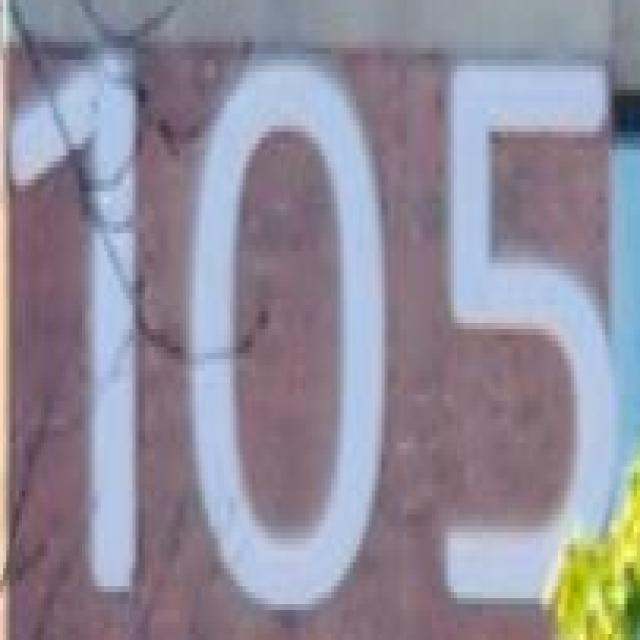character: (183, 46, 395, 627), (430, 57, 630, 618), (1, 20, 158, 618)
